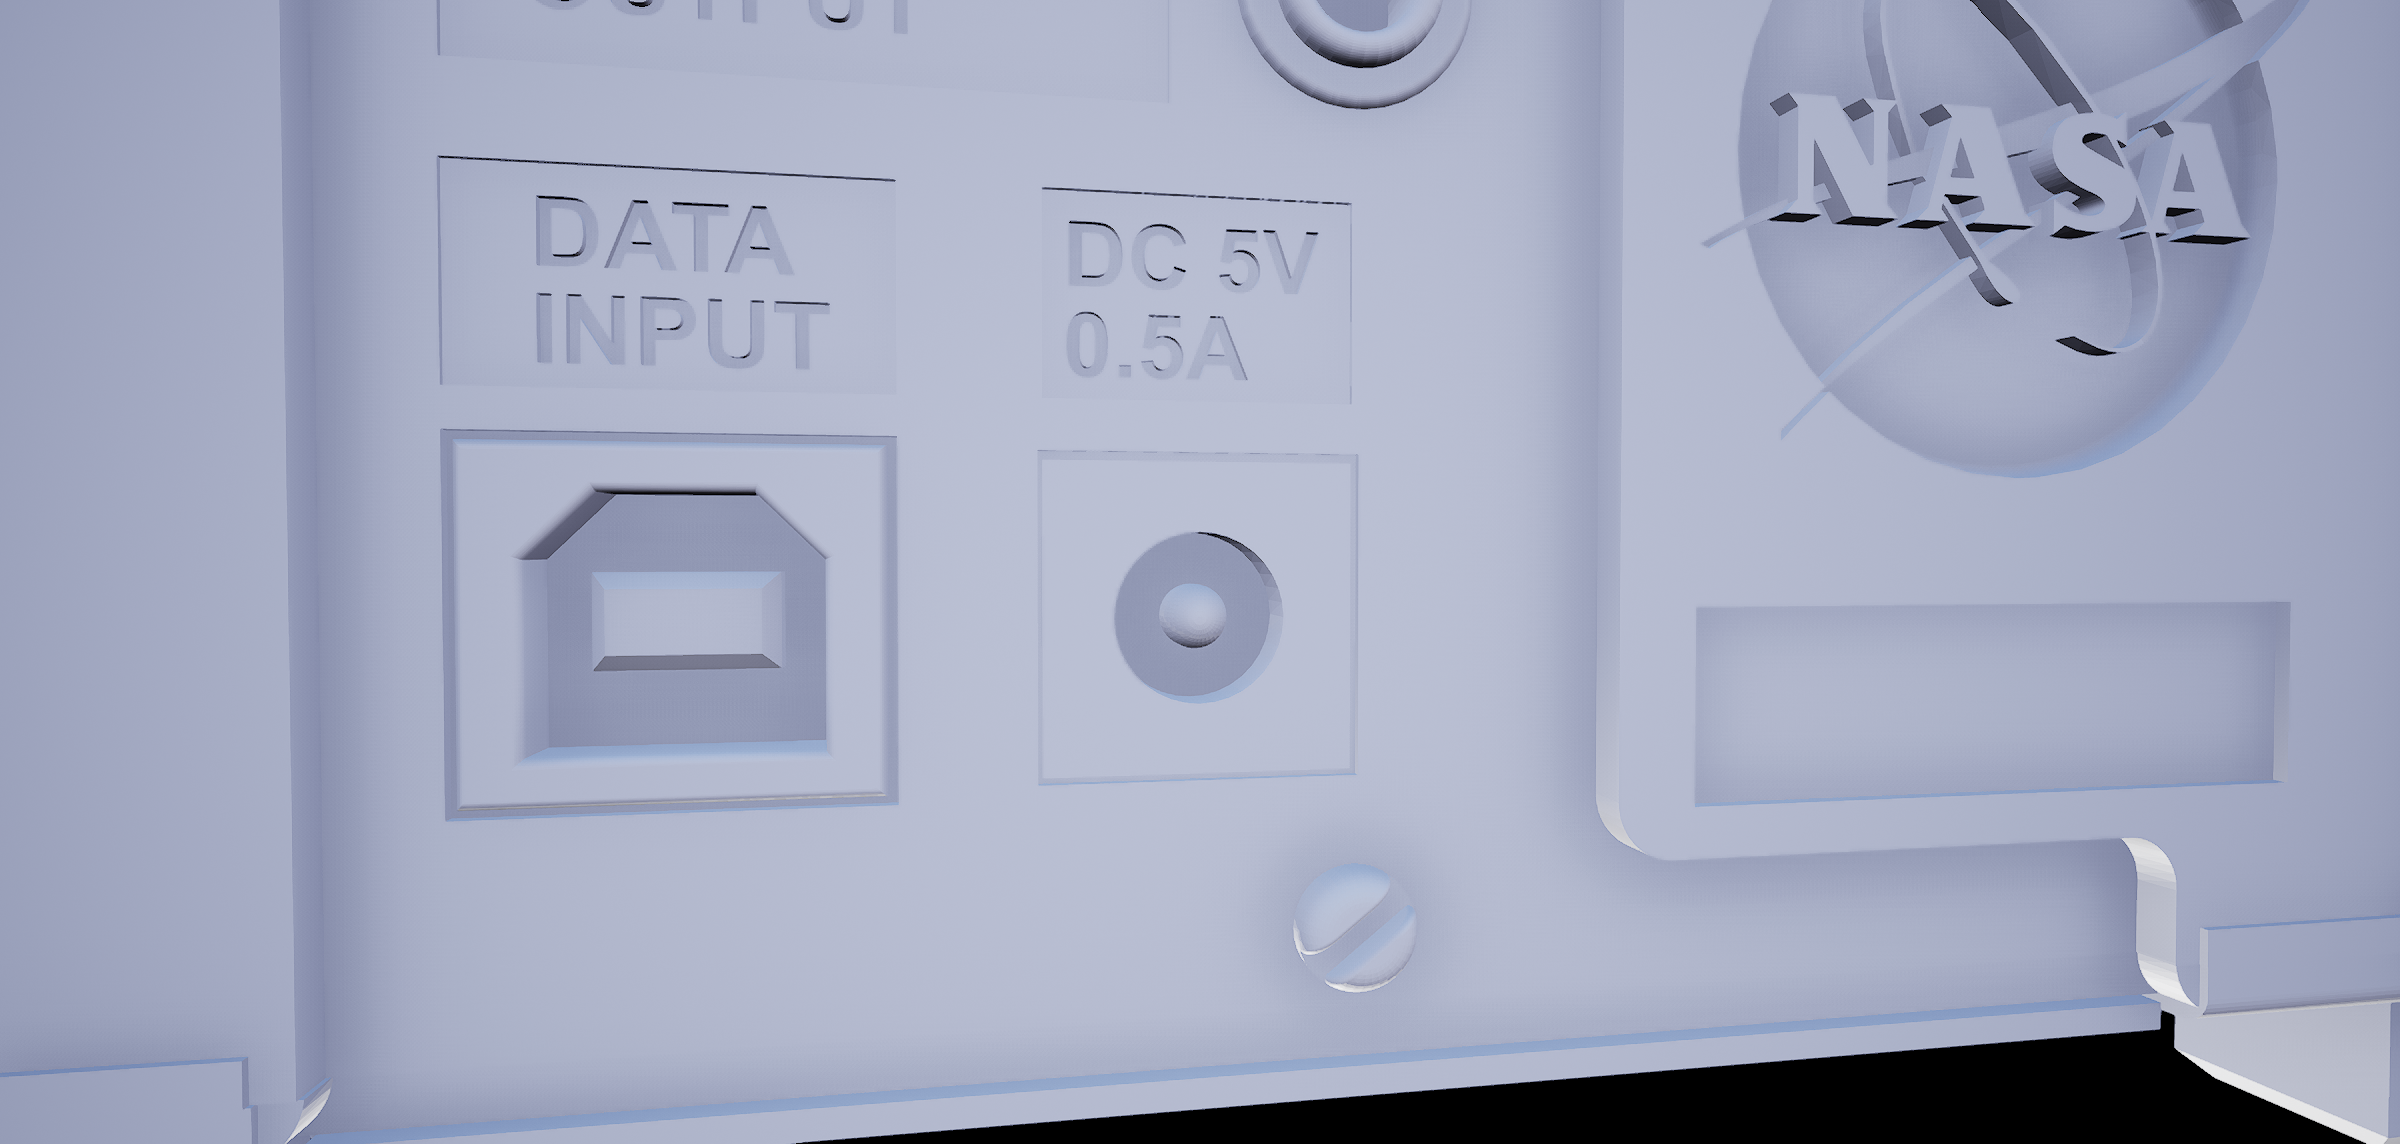dc: (1104, 518, 1303, 714)
usb: (510, 466, 849, 795)
